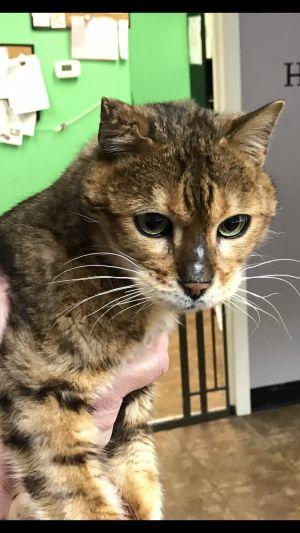bengal: (78, 71, 295, 328)
